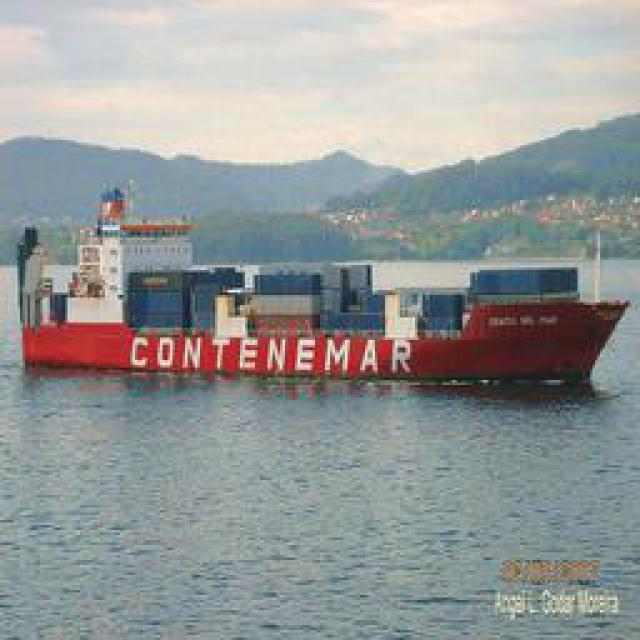Ship: (15, 265, 628, 388)
